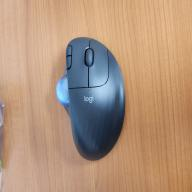mouse: (55, 36, 126, 162)
